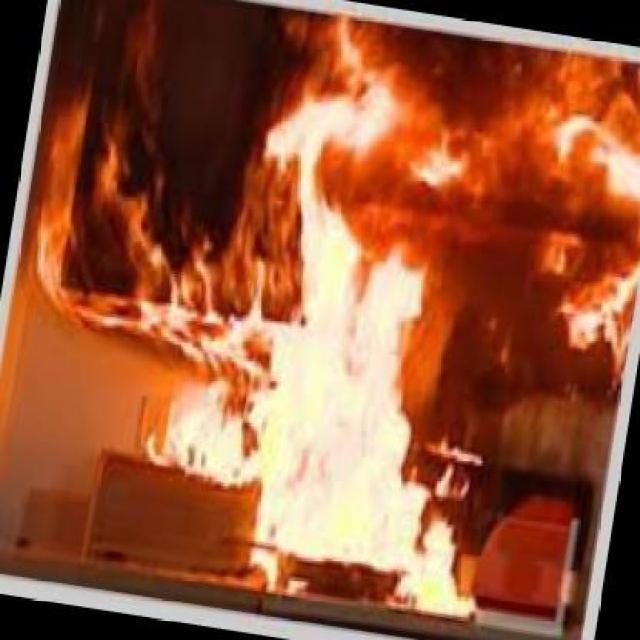Fire: (77, 73, 487, 620), (551, 112, 640, 366)
